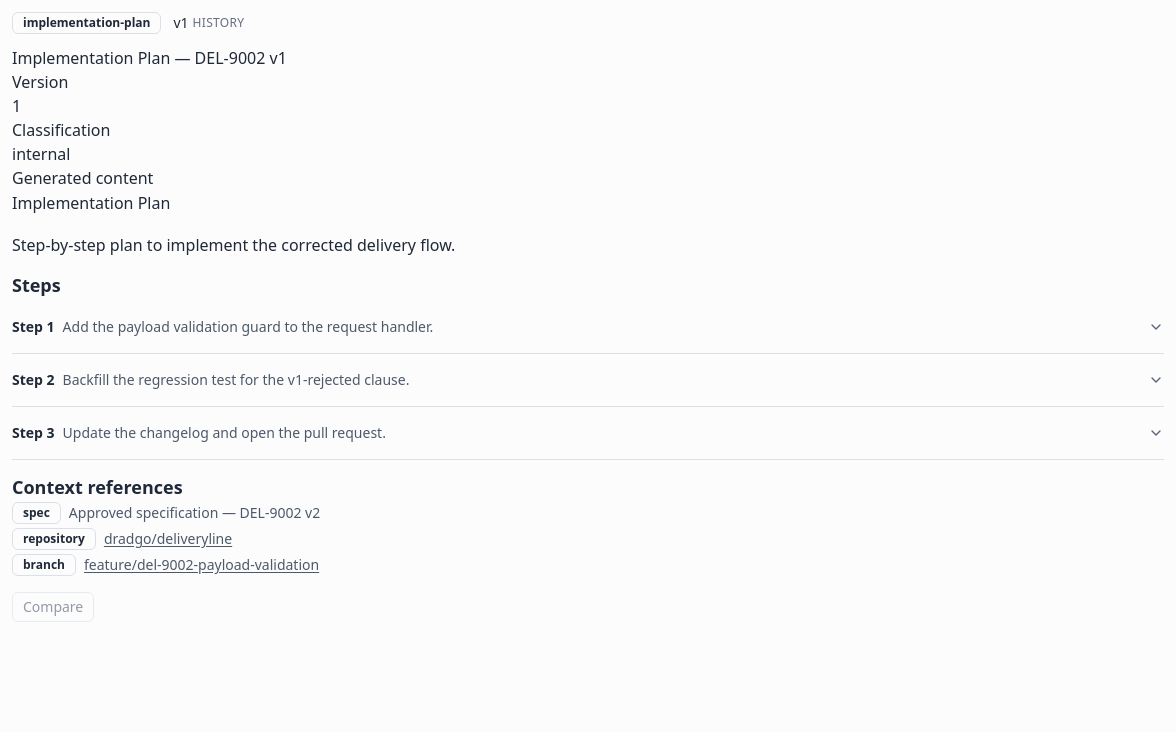
Scenario: ImplementationPlanArtifactRenderer › a step with no detail still renders a content panel when expanded
This screenshot has width=1176, height=732.
// Step 3 has neither detail nor complexity.
What coordinates should you click on to do the following:
click the button with test id "artifact-plan-step-trigger-3"
I would click on:
 (29, 432)
Its box is left=12, top=406, right=1164, bottom=458.
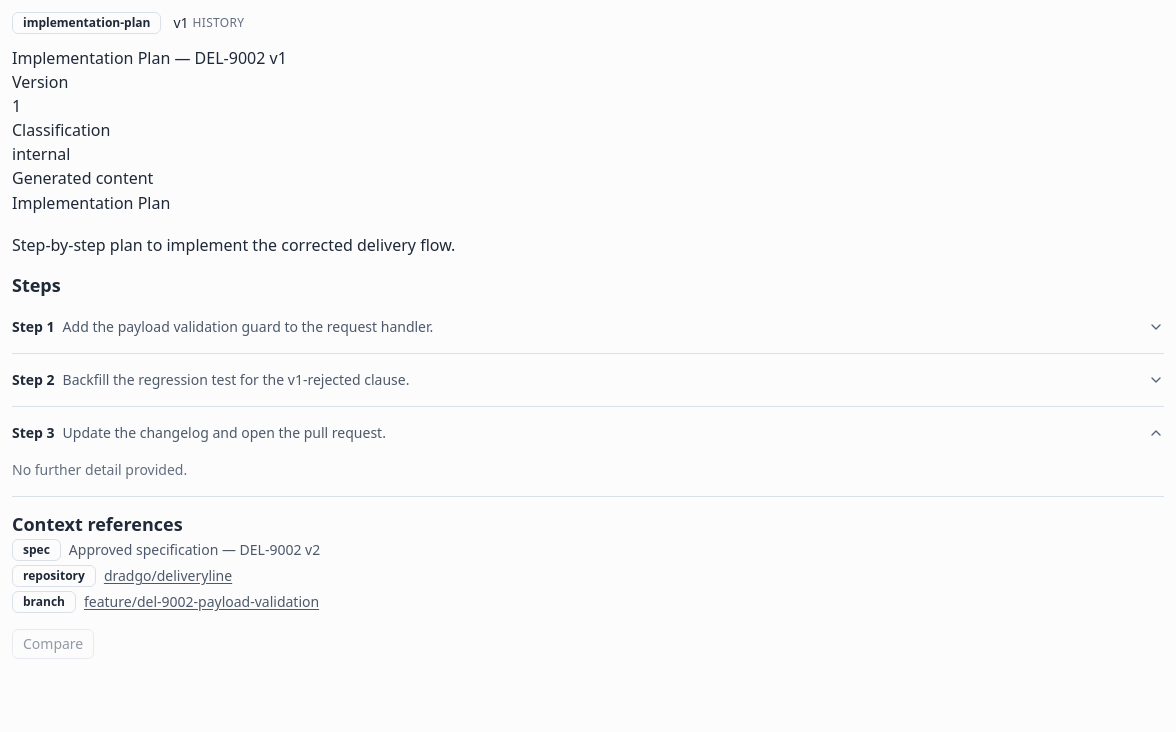
Result: the text "No further detail provided." is shown at left=12, top=460, right=187, bottom=478
